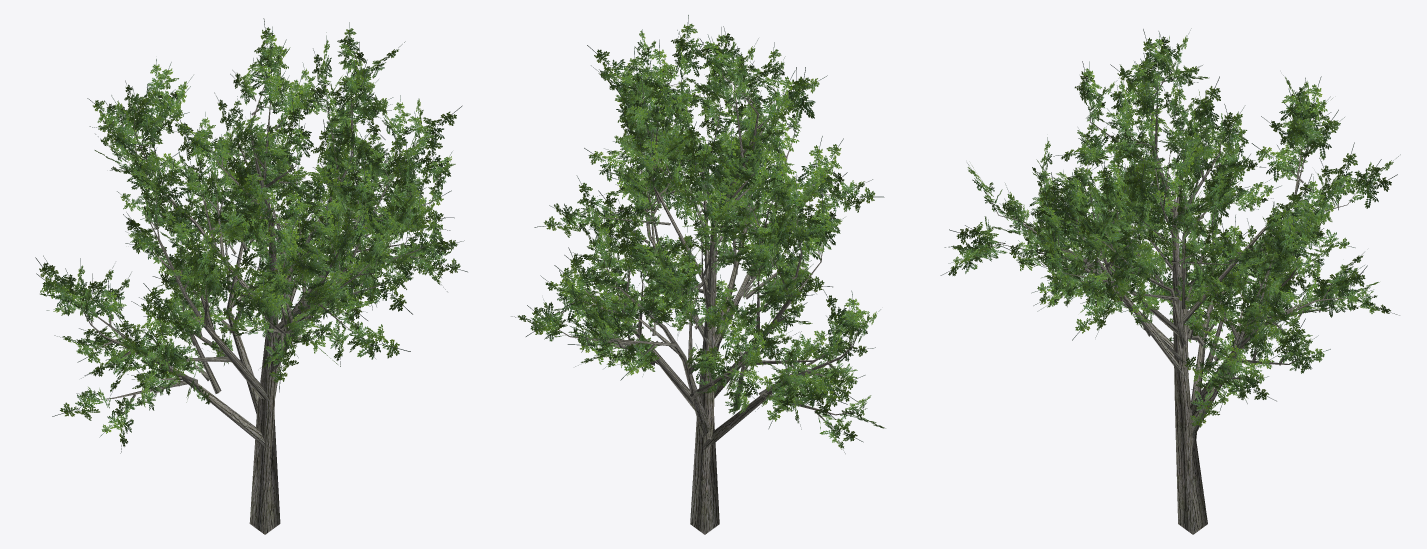
File: ash-large-lod2-20m.glb
3 views of the same model, side by side, from view 1: azimuth 30°, elevation 25°; view 2: azimuth 150°, elevation 25°; view 3: azimuth 270°, elevation 25° (orthographic). The views are drawn at different scales.
Parts seen in each view (by area): view 1: Ash Large LOD2 (scaled to 20m); view 2: Ash Large LOD2 (scaled to 20m); view 3: Ash Large LOD2 (scaled to 20m).
Boxes of the visible parts, left/top/right/bottom form: Ash Large LOD2 (scaled to 20m): left=35, top=18, right=467, bottom=534; Ash Large LOD2 (scaled to 20m): left=511, top=15, right=885, bottom=534; Ash Large LOD2 (scaled to 20m): left=940, top=28, right=1400, bottom=534.
Bounding box in the file's own units: 15.16 × 20.25 × 17.44.
Materials: 2 (2 with a texture image).
